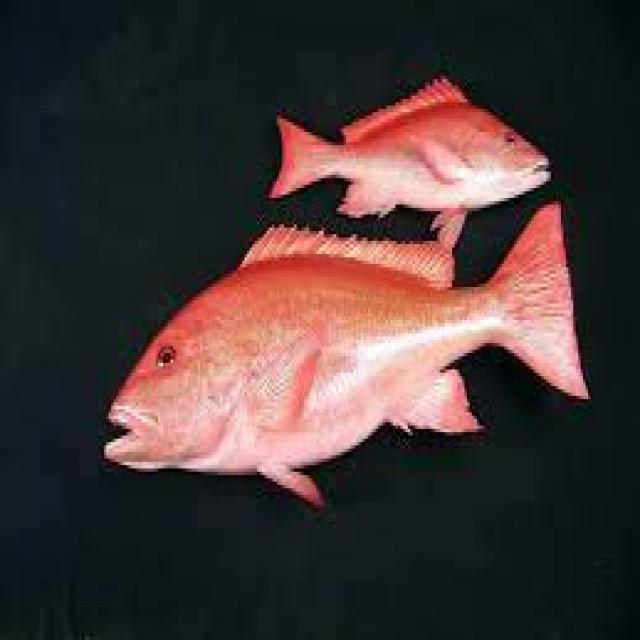northern-red-snapper: (89, 220, 605, 504), (224, 66, 570, 238)
